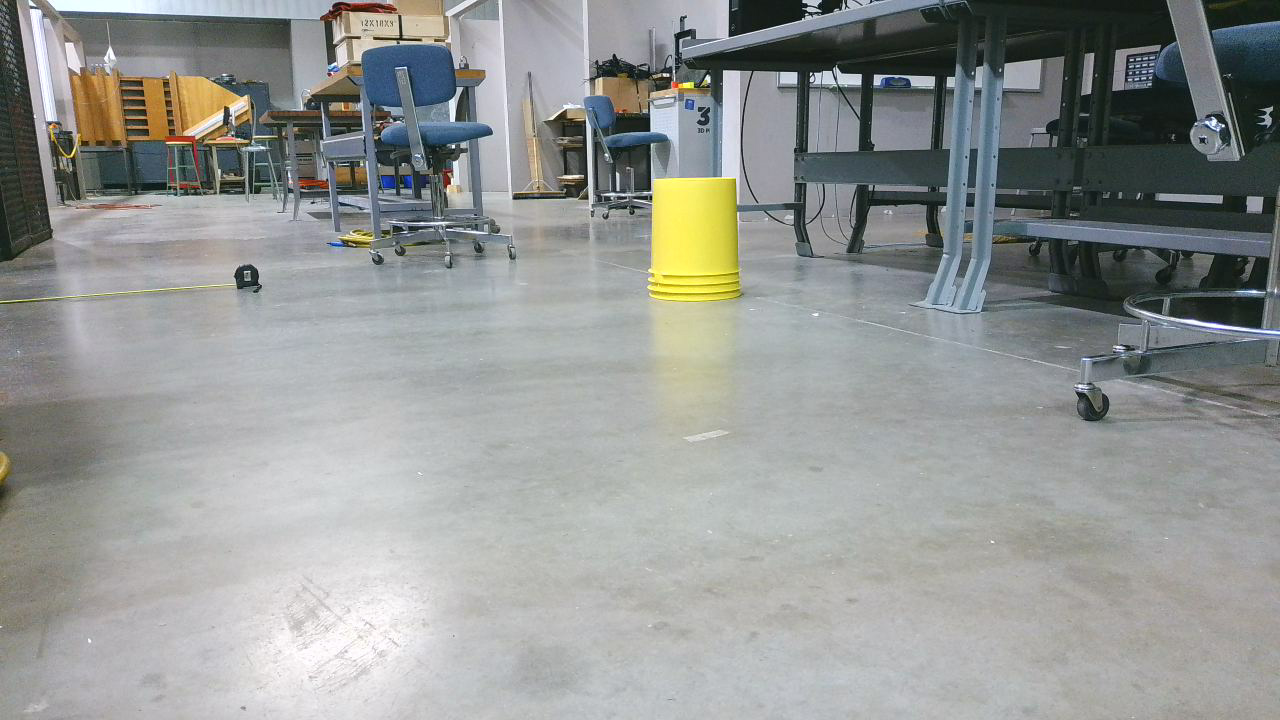yellow_bucket: (654, 182, 747, 305)
